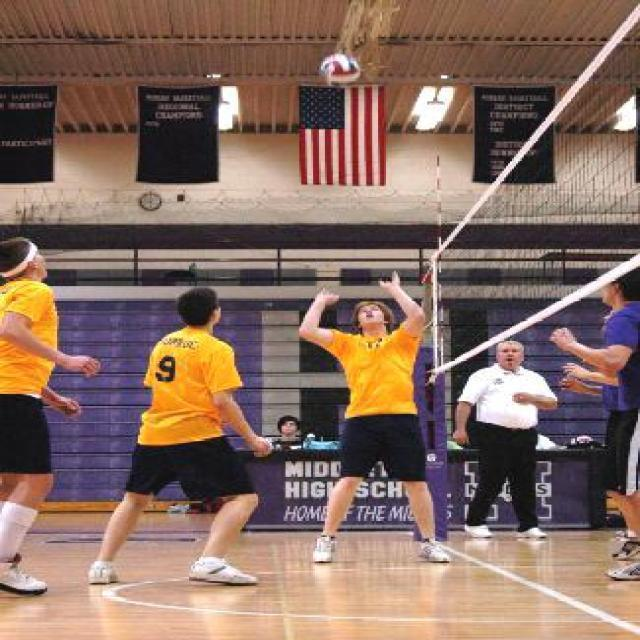volleyball: (318, 52, 361, 84)
